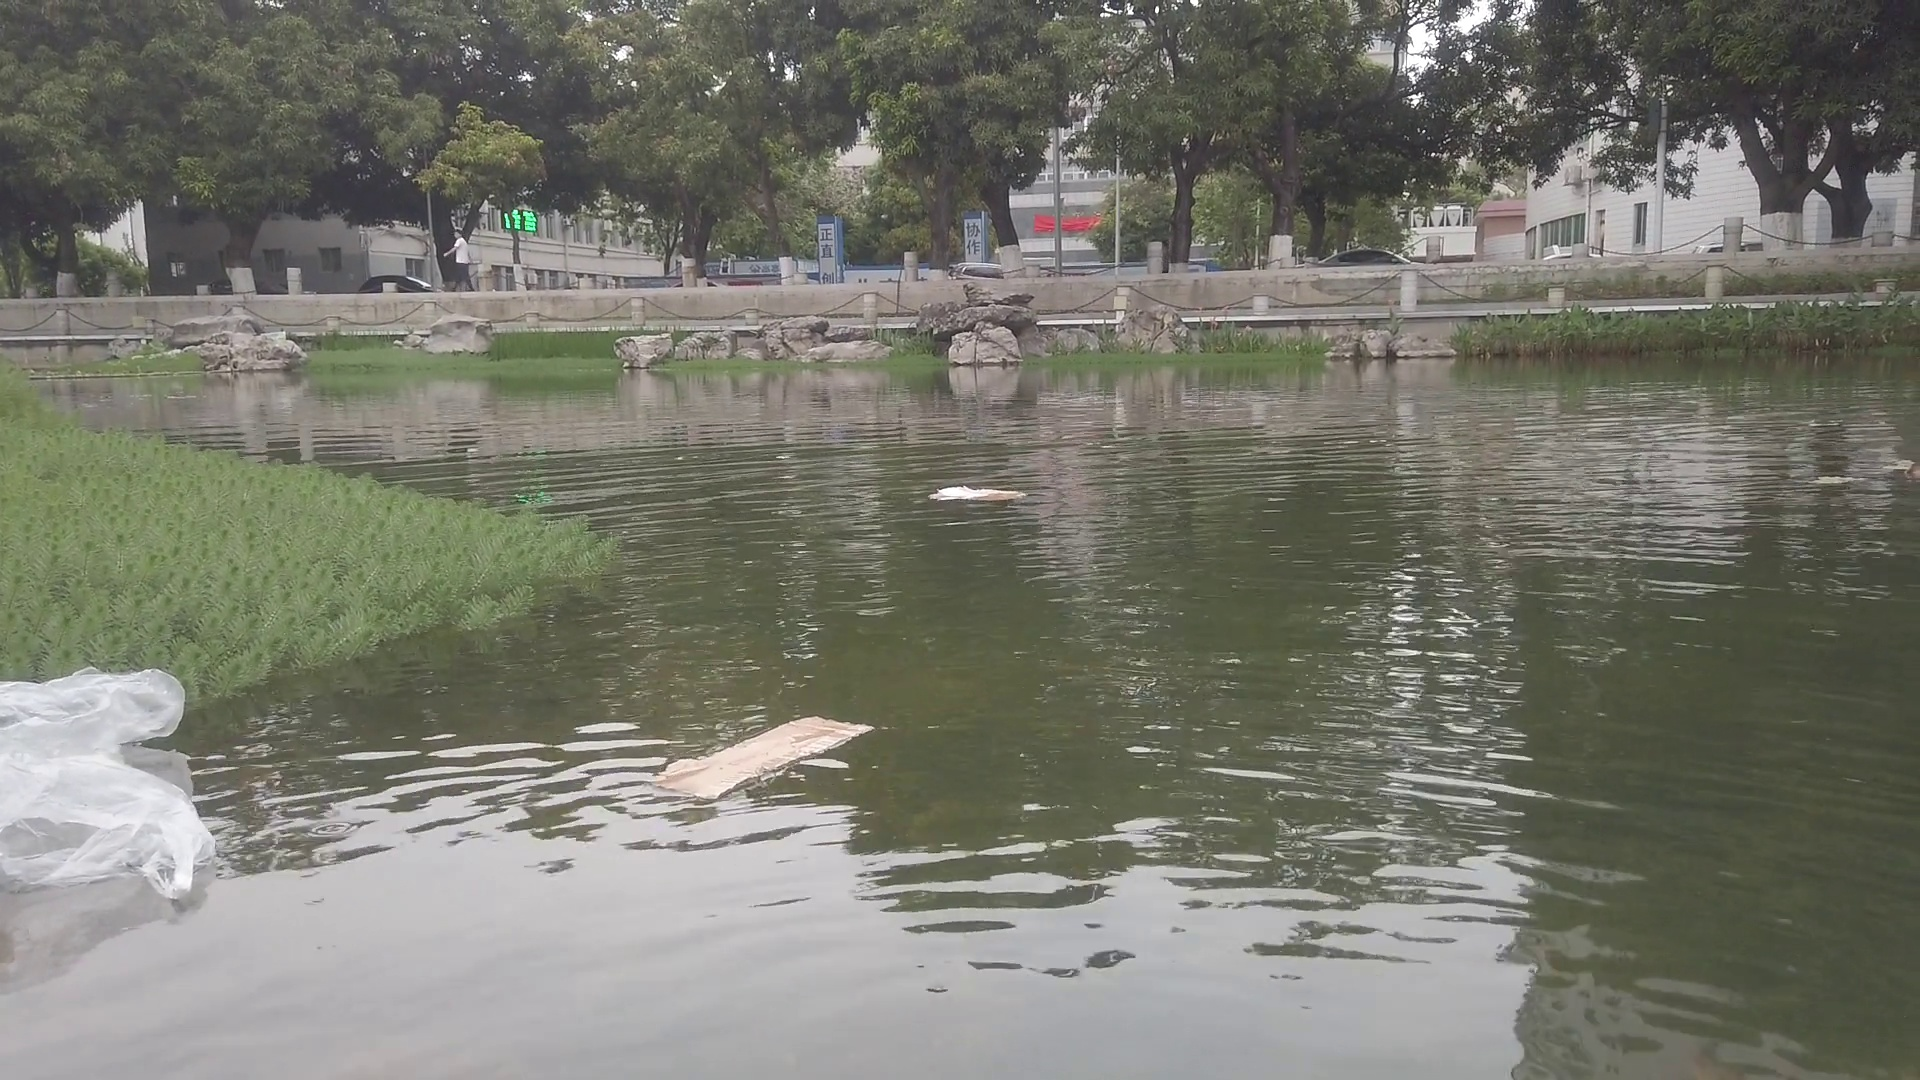paper: (650, 711, 868, 799), (931, 479, 1030, 516)
plastic: (1, 746, 215, 897), (3, 663, 196, 742)
